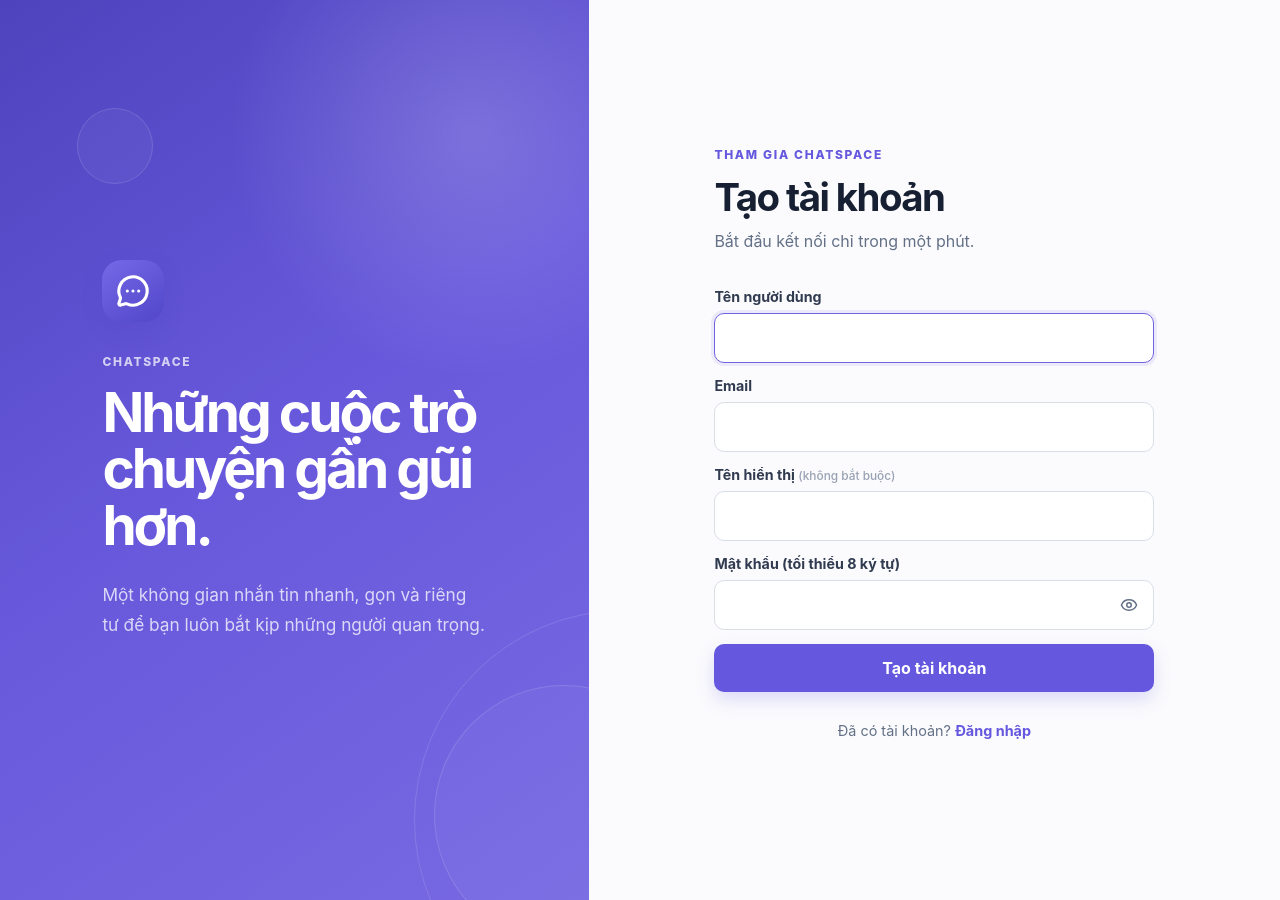
Scenario: RegisterPage › uses neutral copy when an older API omits the email status field
In the field labelled "Tên người dùng": (934, 338) [714,313,1154,363], type "thanh_user"
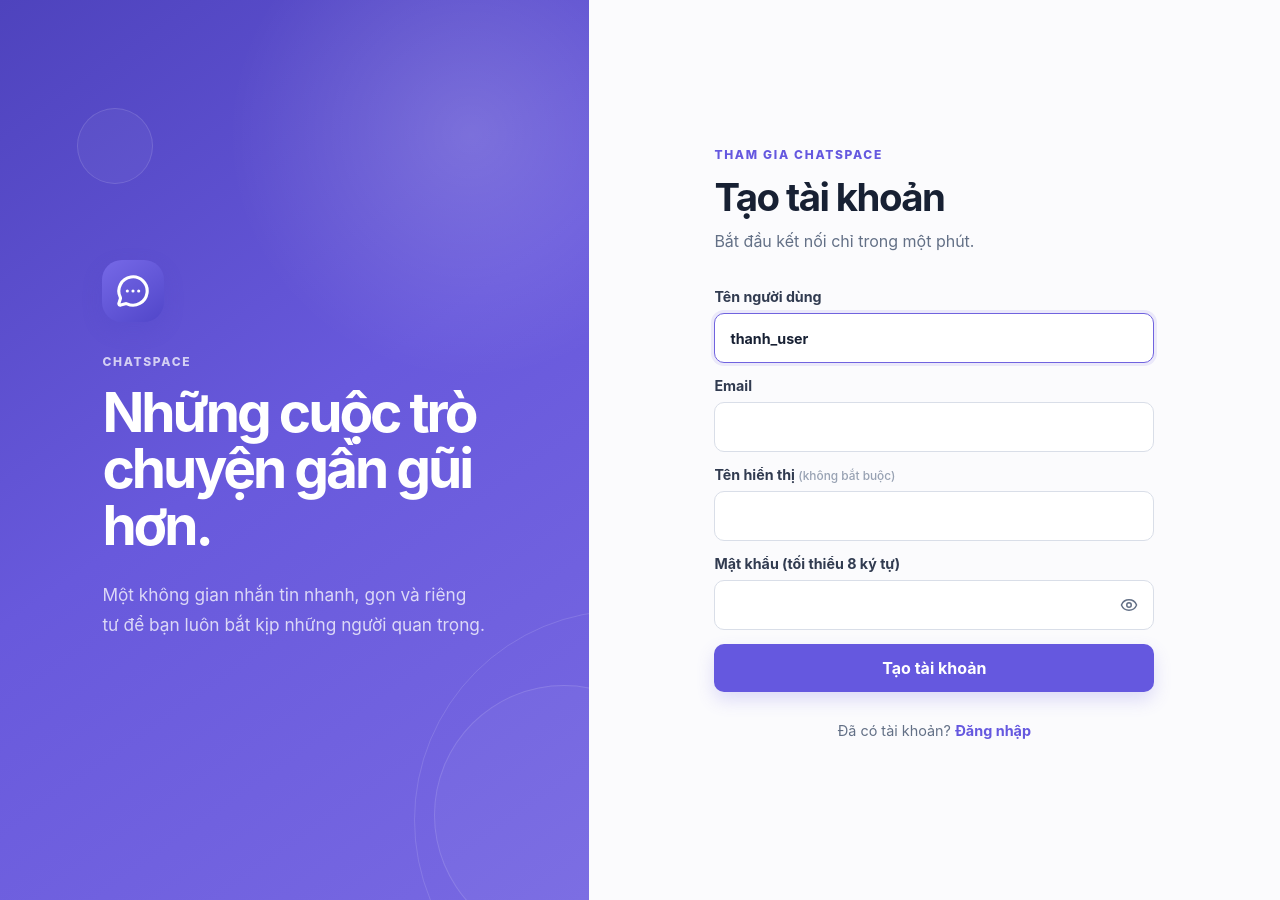
In the field labelled "Email": (934, 427) [714,402,1154,452], type "thanh@example.com"
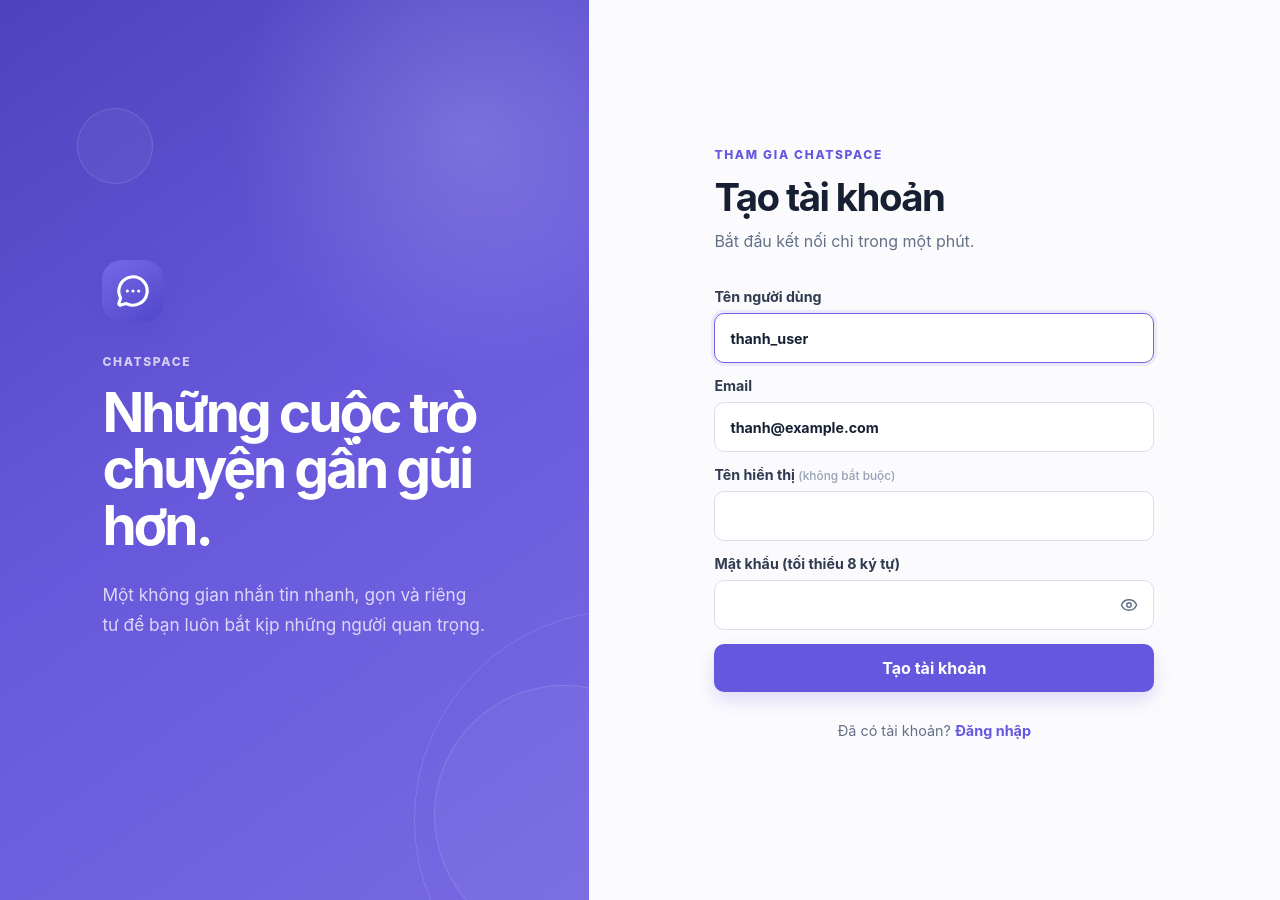
In the password field labelled "Mật khẩu (tối thiểu 8 ký tự)": (934, 605) [714,580,1154,630], type "Password123"
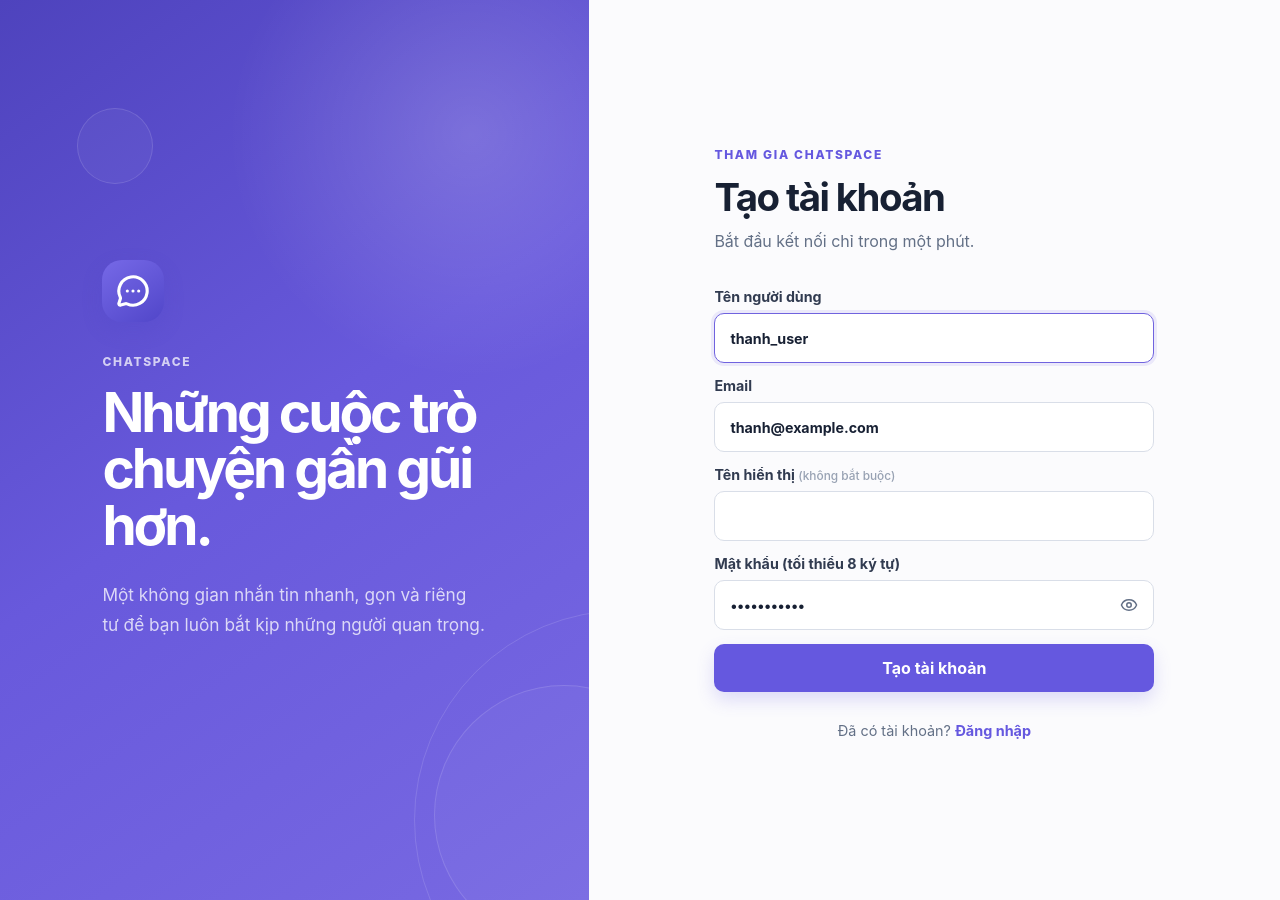
Click the button "Tạo tài khoản": click(934, 668) [714,644,1154,692]
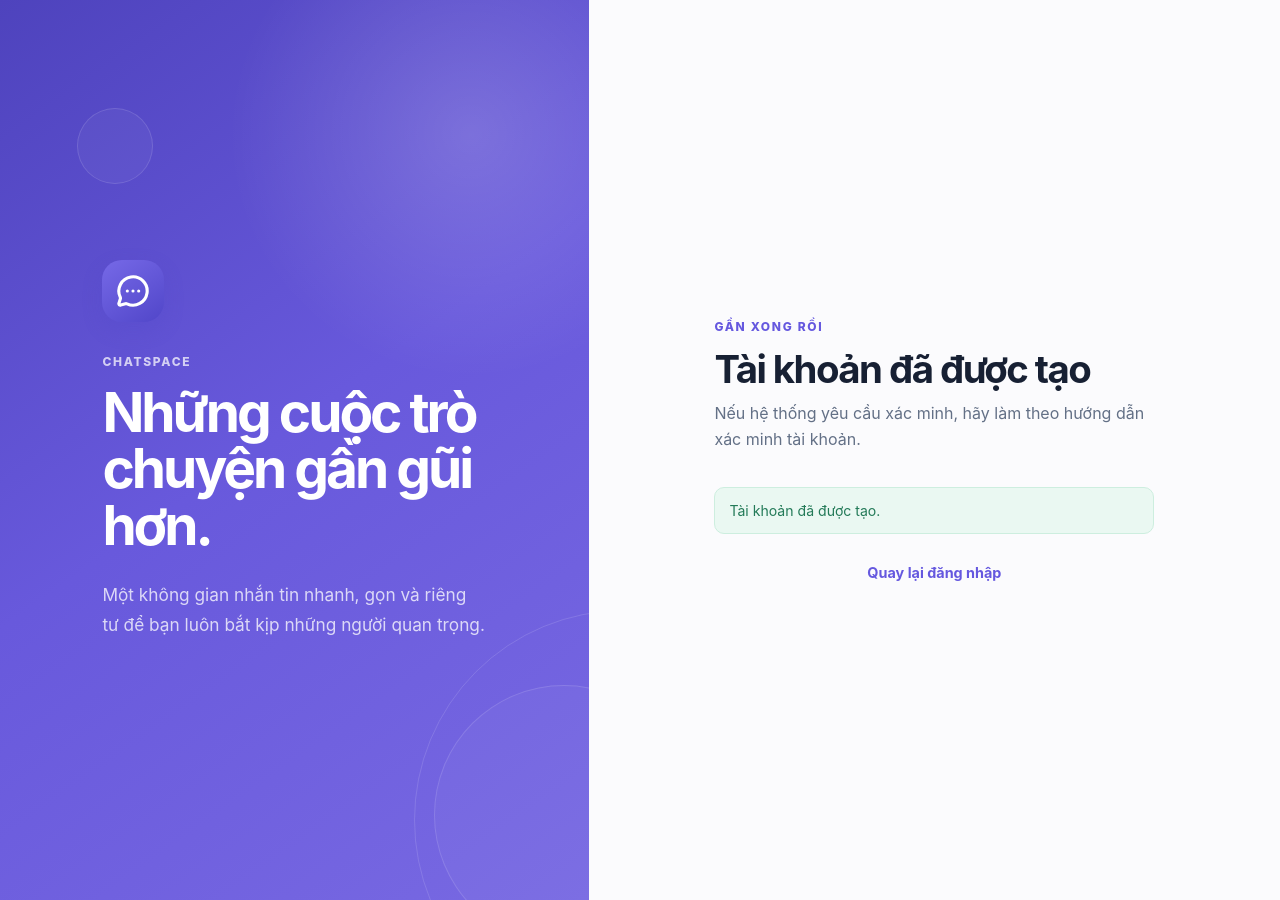
Result: the heading "Tài khoản đã được tạo" is shown at [714,346,1154,392]
Result: the message reads "Tài khoản đã được tạo." at [729,502,880,518]
